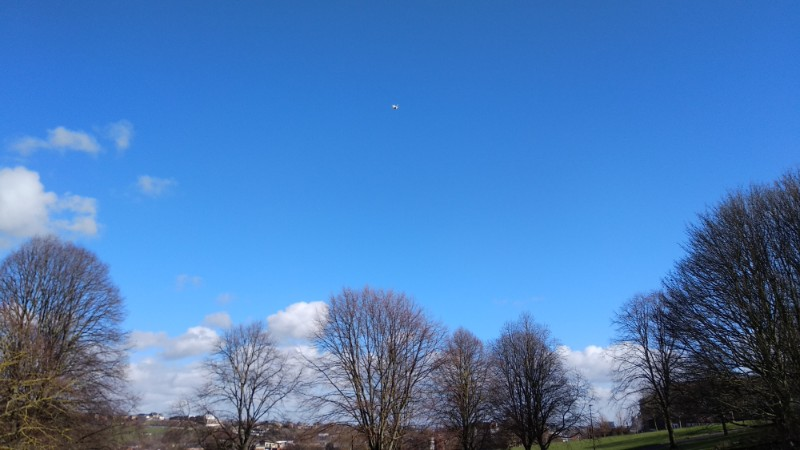drone: (390, 101, 399, 114)
